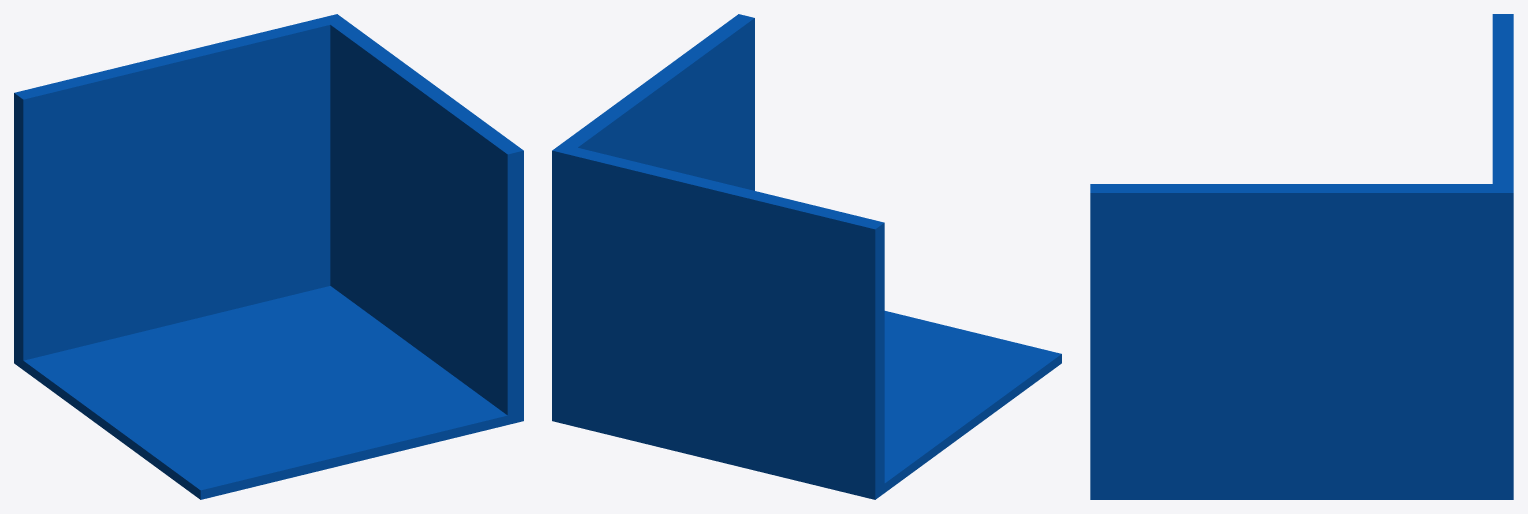
Rendered from Wall_13.fbx.
3 renders of one model, left to right at view 1: azimuth 30°, elevation 25°; view 2: azimuth 150°, elevation 25°; view 3: azimuth 270°, elevation 25°, orthographic. The views are drawn at different scales.
Visible parts, largest first — view 1: Wall_13; view 2: Wall_13; view 3: Wall_13.
Part boxes in pixels (x1=…): Wall_13: x1=14, y1=14, x2=523, y2=499; Wall_13: x1=552, y1=14, x2=1061, y2=499; Wall_13: x1=1090, y1=14, x2=1513, y2=499.
Bounding box in the file's own units: 3.8 × 3.04 × 3.8.
